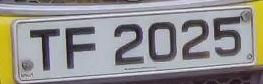0: (142, 16, 180, 65)
2: (111, 18, 147, 69), (179, 15, 212, 65)
5: (210, 13, 244, 64)
F: (60, 20, 103, 73)
T: (26, 22, 67, 77)
